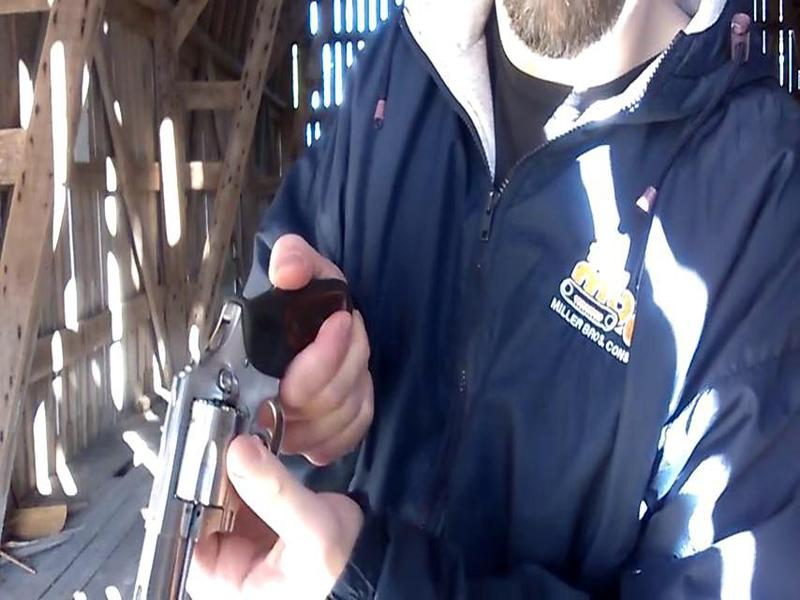Revolver: (117, 242, 345, 600)
